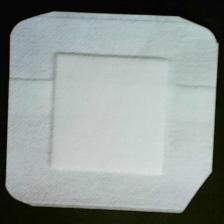Cut: (4, 11, 222, 214)
